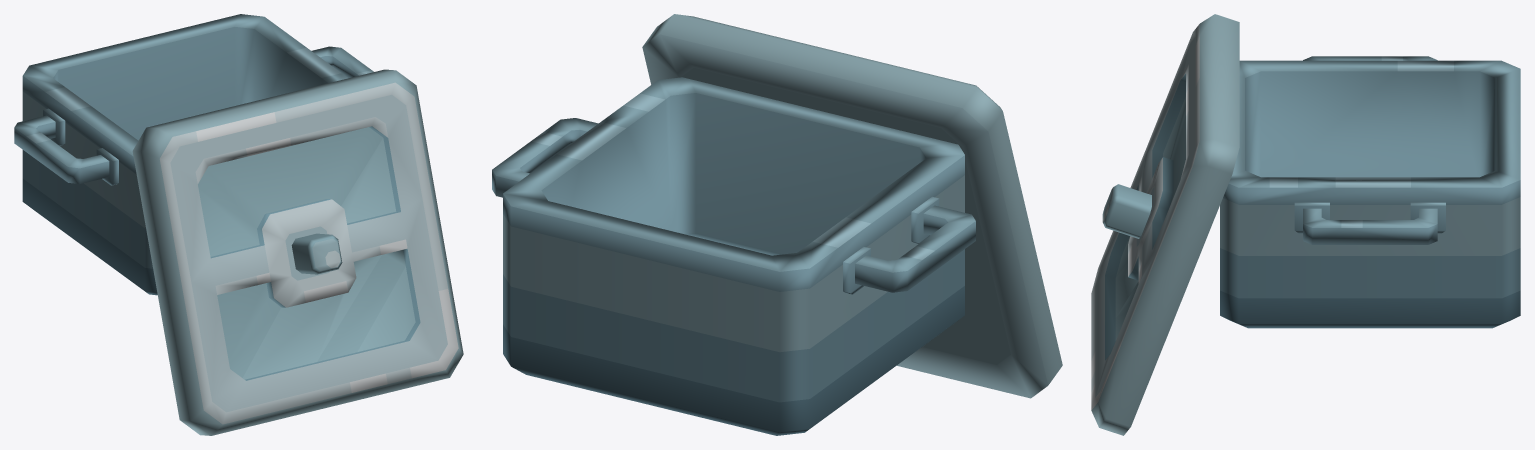
File: BC_cauldron03_idle.fbx
3 views of the same model, side by side, from view 1: azimuth 30°, elevation 25°; view 2: azimuth 150°, elevation 25°; view 3: azimuth 270°, elevation 25° (orthographic). The views are drawn at different scales.
Visible parts, largest first — view 1: model03 1, model03; view 2: model03, model03 1; view 3: model03, model03 1.
Part boxes in pixels (left/top/right/bottom): model03 1: left=132, top=69, right=463, bottom=435; model03: left=14, top=14, right=373, bottom=295; model03: left=492, top=77, right=975, bottom=435; model03 1: left=642, top=14, right=1062, bottom=398; model03: left=1220, top=56, right=1520, bottom=328; model03 1: left=1091, top=14, right=1239, bottom=435.
Bounding box in the file's own units: 5.41 × 4.36 × 5.71.
1 material, 1 textured.
